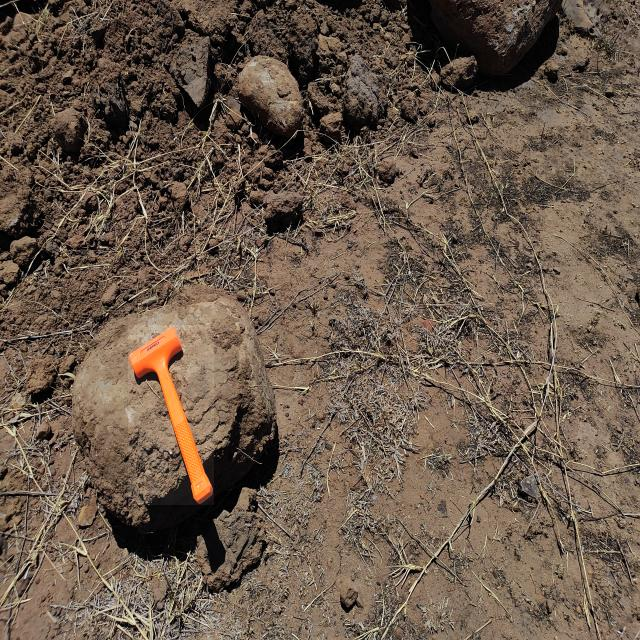Orange_hammer: (128, 325, 214, 505)
